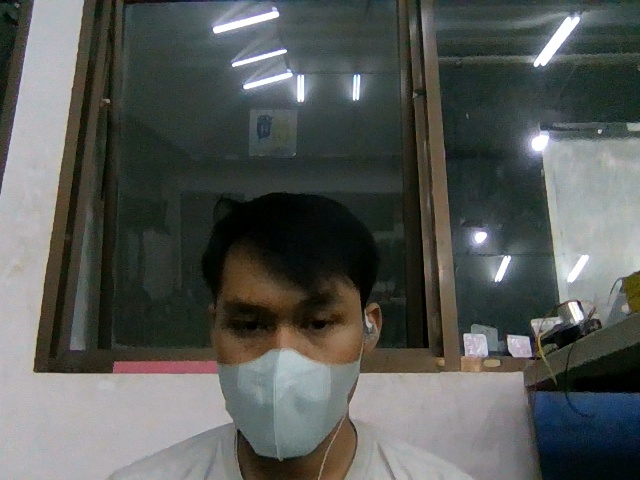mask_on: (216, 348, 360, 459)
